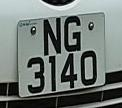0: (78, 48, 101, 88)
1: (44, 54, 62, 94)
3: (23, 54, 48, 96)
4: (58, 51, 79, 93)
G: (62, 15, 85, 54)
N: (41, 16, 63, 58)
